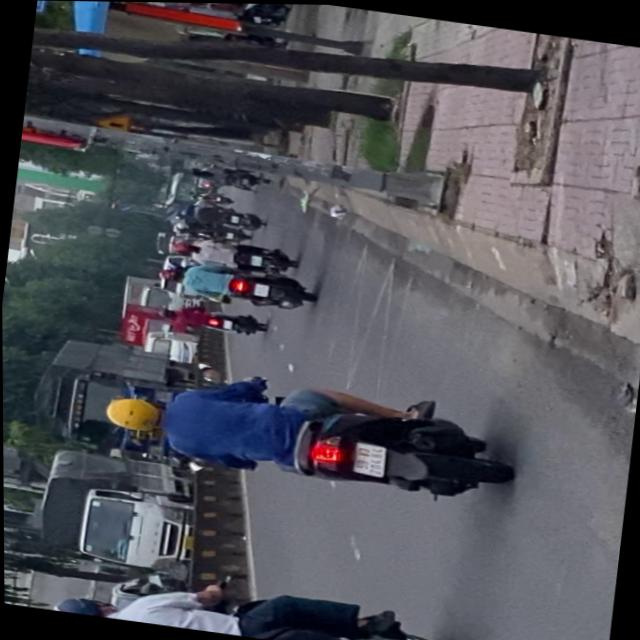helmet: (100, 393, 162, 434), (49, 591, 115, 618)
licenseplate: (95, 354, 514, 512), (46, 558, 464, 640)
nohelmet: (349, 441, 383, 475)
